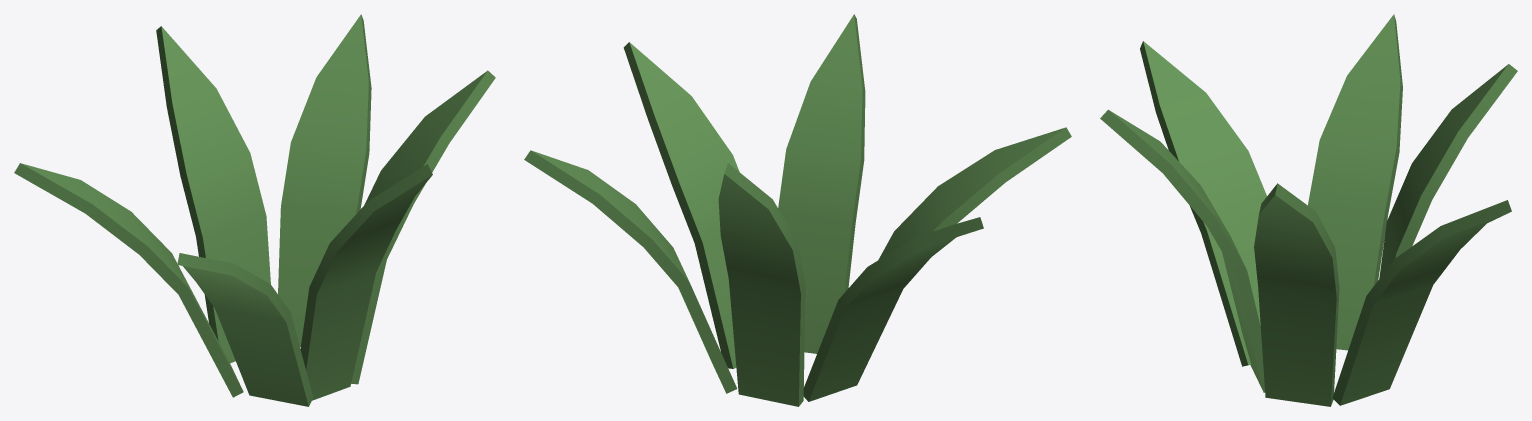
Rendered from Herbe_01.fbx.
3 views of the same model, side by side, from view 1: azimuth 30°, elevation 25°; view 2: azimuth 150°, elevation 25°; view 3: azimuth 270°, elevation 25° (orthographic). The views are drawn at different scales.
Parts seen in each view (by area): view 1: Herbe_01; view 2: Herbe_01; view 3: Herbe_01.
Part boxes in pixels (left/top/right/bottom): Herbe_01: left=14, top=14, right=495, bottom=406; Herbe_01: left=524, top=14, right=1071, bottom=406; Herbe_01: left=1100, top=14, right=1517, bottom=406.
Bounding box in the file's own units: 48.27 × 31.96 × 40.6.
1 material, 1 textured.
